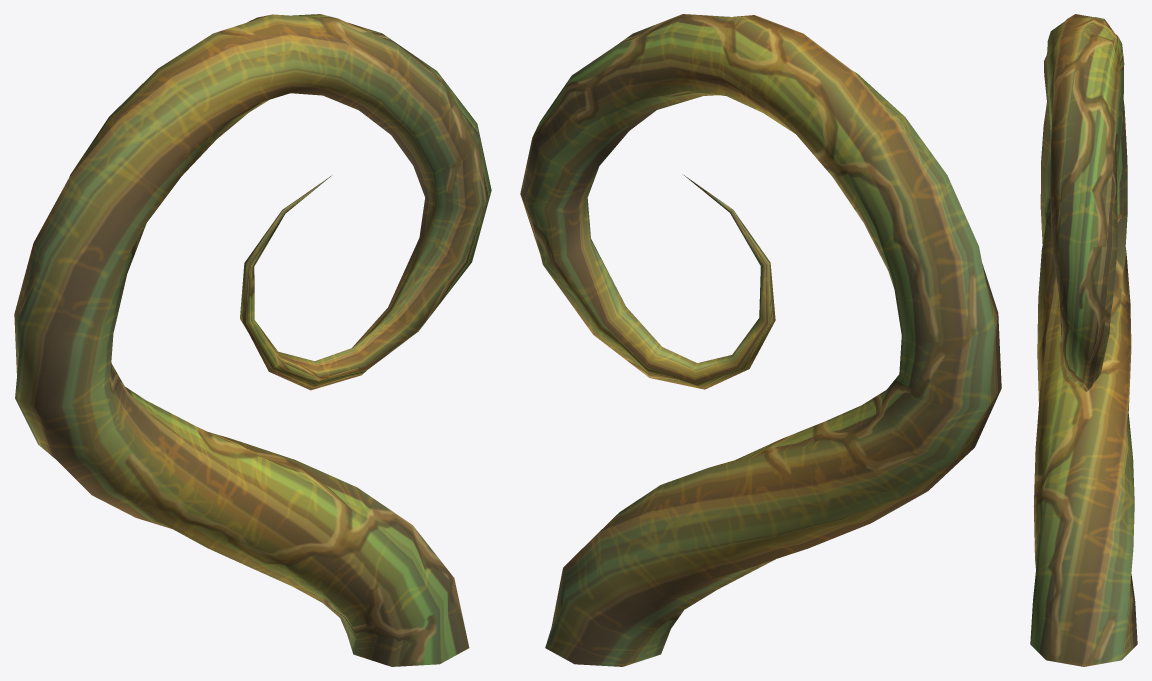
The model's file is vine_01_v02.fbx.
3 views of the same model, side by side, from view 1: azimuth 30°, elevation 25°; view 2: azimuth 150°, elevation 25°; view 3: azimuth 270°, elevation 25° (orthographic). The views are drawn at different scales.
Visible parts, largest first — view 1: vine_01_v02; view 2: vine_01_v02; view 3: vine_01_v02.
Boxes of the visible parts, x1=… form: vine_01_v02: x1=14, y1=14, x2=491, y2=666; vine_01_v02: x1=520, y1=14, x2=1001, y2=666; vine_01_v02: x1=1030, y1=14, x2=1137, y2=666.
Bounding box in the file's own units: 93.91 × 126 × 22.07.
